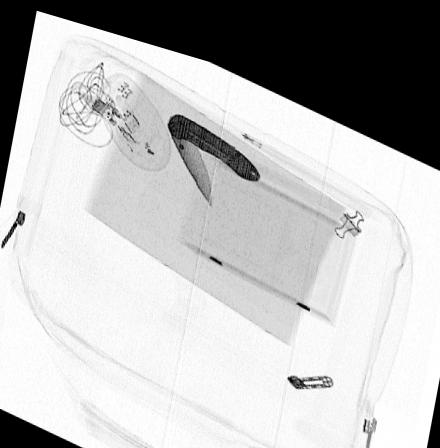Knife: (165, 99, 263, 196)
